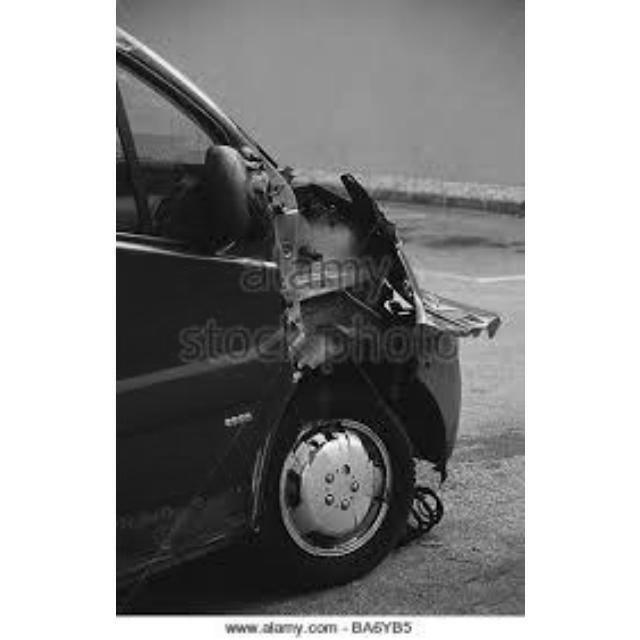fender-dent: (275, 173, 461, 359)
